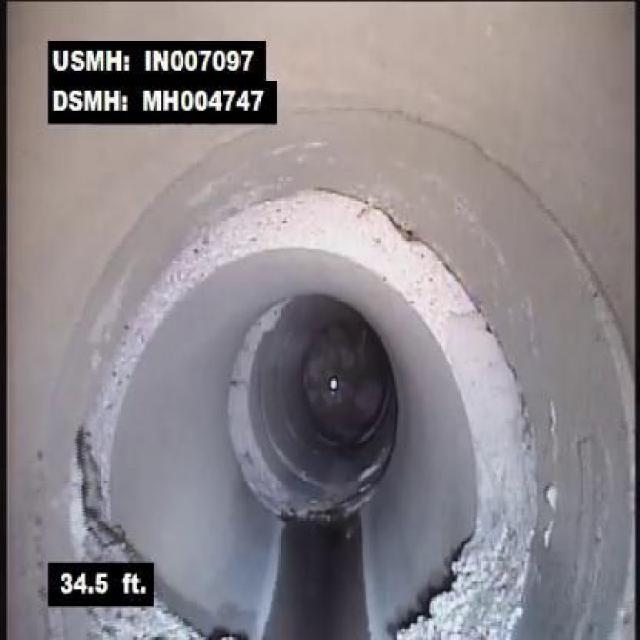Joint offset: (416, 291, 550, 531), (227, 168, 456, 282)
